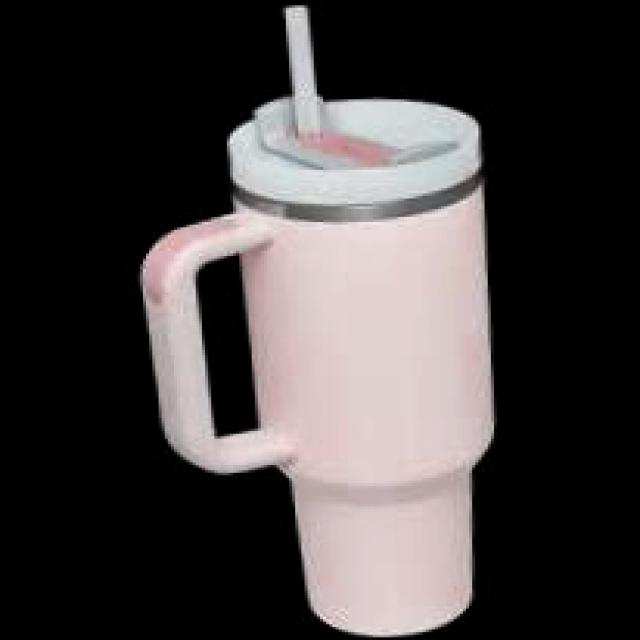bottle: (121, 0, 541, 640)
